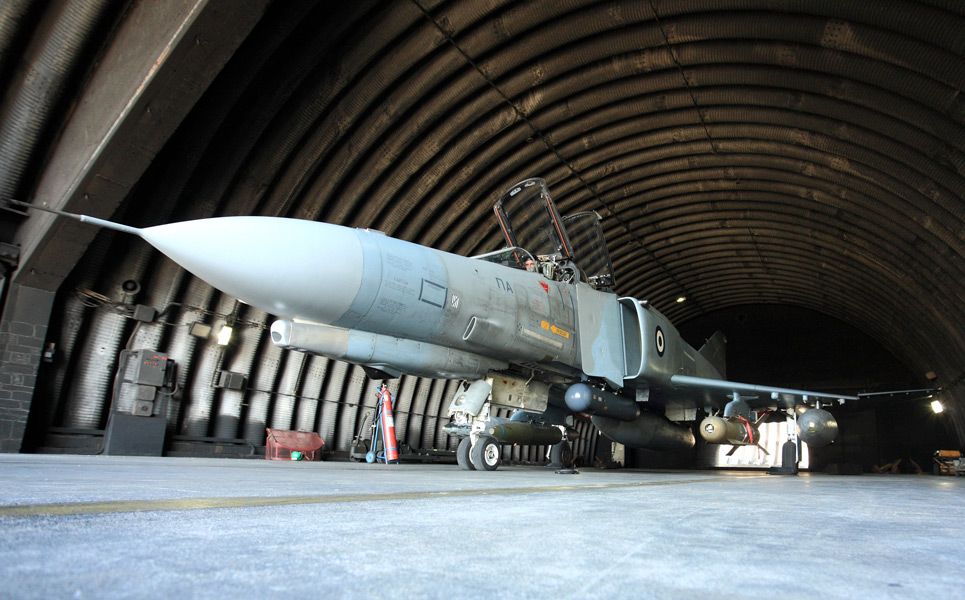F4: (1, 177, 942, 475)
